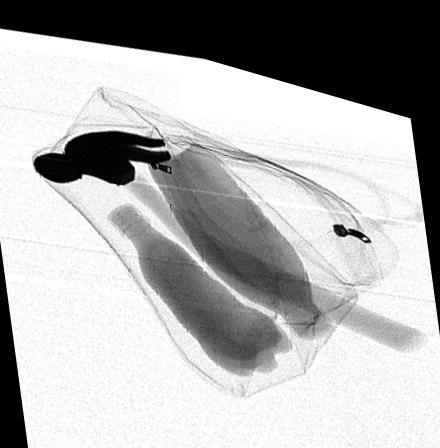Hammer: (33, 124, 430, 331)
